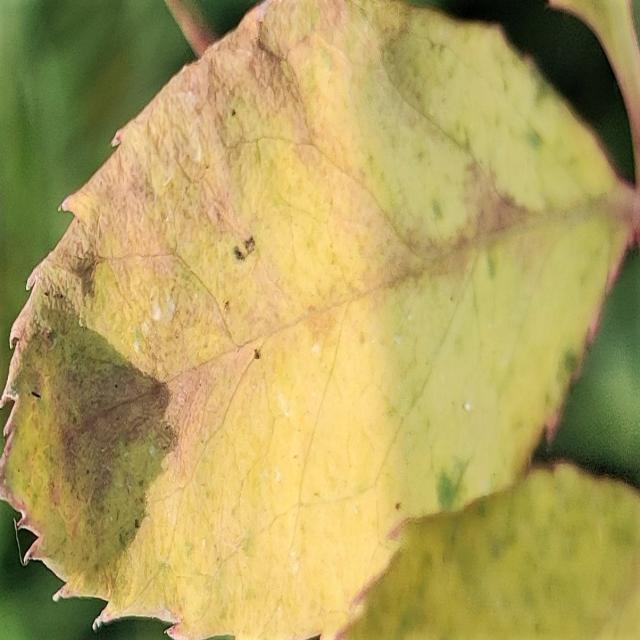Rose: (1, 0, 637, 638)
